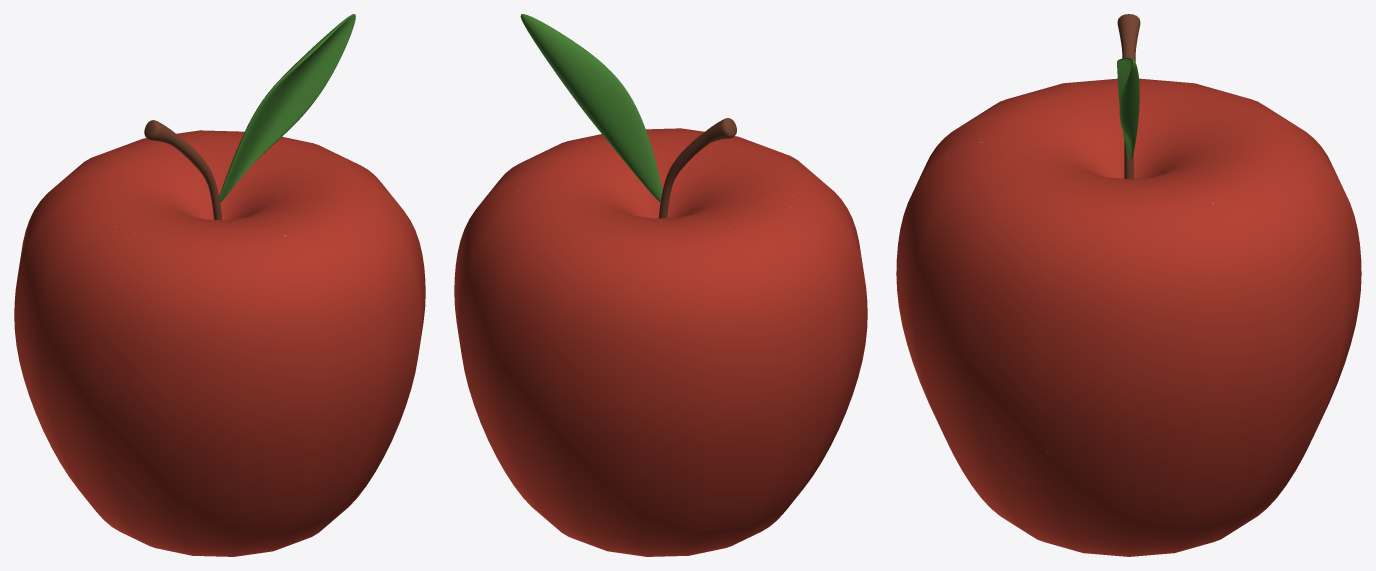
File: apple (1).fbx
3 views of the same model, side by side, from view 1: azimuth 30°, elevation 25°; view 2: azimuth 150°, elevation 25°; view 3: azimuth 270°, elevation 25° (orthographic). The views are drawn at different scales.
Visible parts, largest first — view 1: Vert.012, Plane.005, Vert.013; view 2: Vert.012, Plane.005, Vert.013; view 3: Vert.012, Plane.005, Vert.013.
Boxes of the visible parts, bbox=[...] form: Vert.012: bbox=[14, 130, 425, 556]; Plane.005: bbox=[219, 14, 355, 202]; Vert.013: bbox=[144, 120, 222, 219]; Vert.012: bbox=[454, 128, 867, 556]; Plane.005: bbox=[520, 14, 662, 201]; Vert.013: bbox=[658, 118, 736, 218]; Vert.012: bbox=[896, 78, 1361, 556]; Plane.005: bbox=[1117, 57, 1139, 160]; Vert.013: bbox=[1117, 14, 1140, 179].
Size of the model in its own units: 43.83 by 55 by 43.83.
3 materials, 1 textured.
